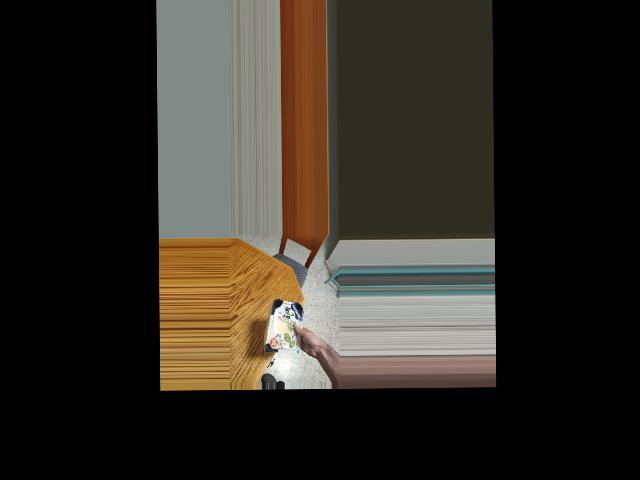cheese: (267, 297, 304, 346)
